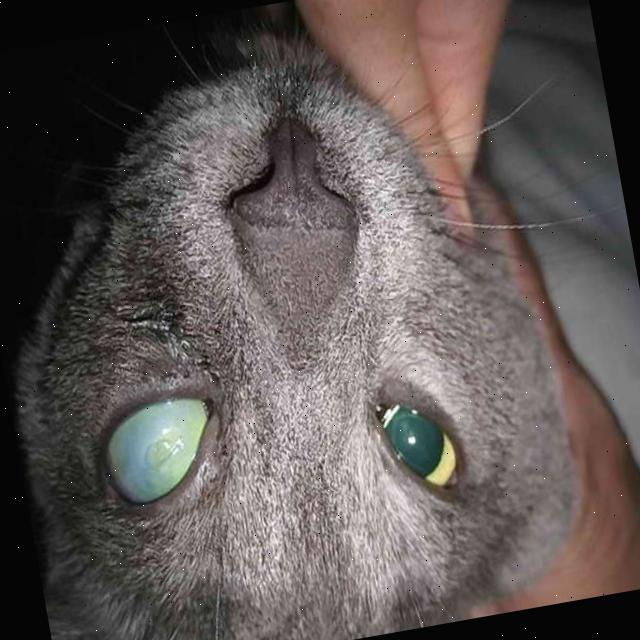cat-eye: (65, 362, 256, 548)
cat-eye-normal: (346, 364, 492, 540)
